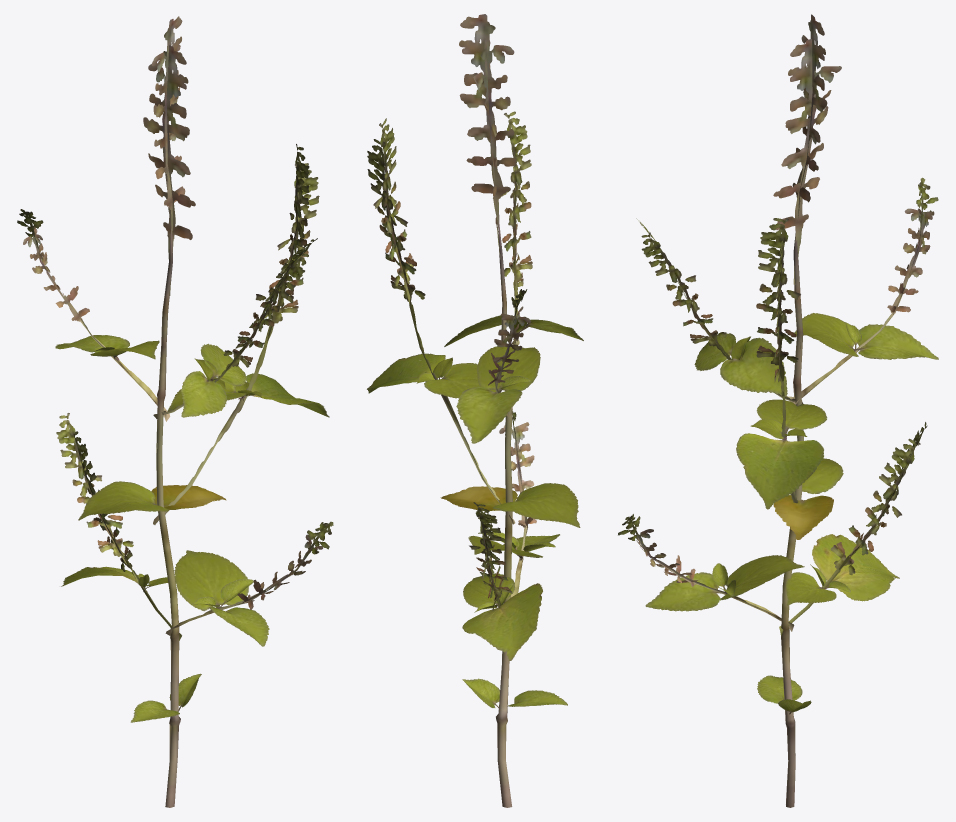
3 views of the same model, side by side, from view 1: azimuth 30°, elevation 25°; view 2: azimuth 150°, elevation 25°; view 3: azimuth 270°, elevation 25° (orthographic). The views are drawn at different scales.
Parts seen in each view (by area): view 1: shrub_03__c_lod1; view 2: shrub_03__c_lod1; view 3: shrub_03__c_lod1.
Boxes of the visible parts, bbox=[...] form: shrub_03__c_lod1: bbox=[17, 16, 333, 807]; shrub_03__c_lod1: bbox=[367, 14, 583, 807]; shrub_03__c_lod1: bbox=[618, 14, 938, 807].
Bounding box in the file's own units: 0.0977 × 0.3069 × 0.1142.
Materials: 1 (1 with a texture image).
